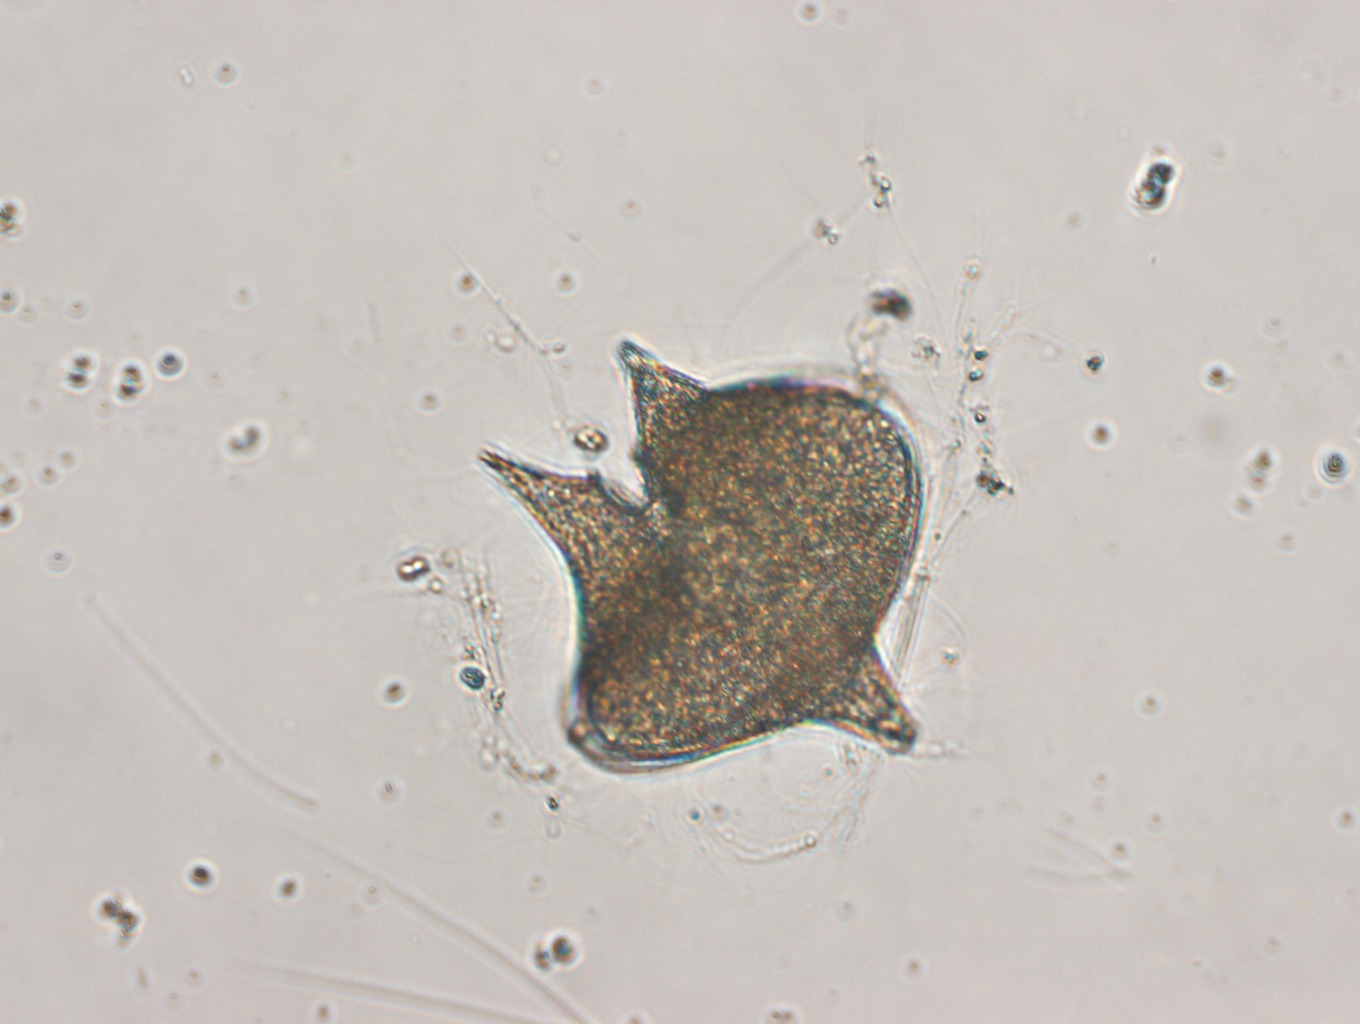protoperidinium: (475, 335, 930, 781)
